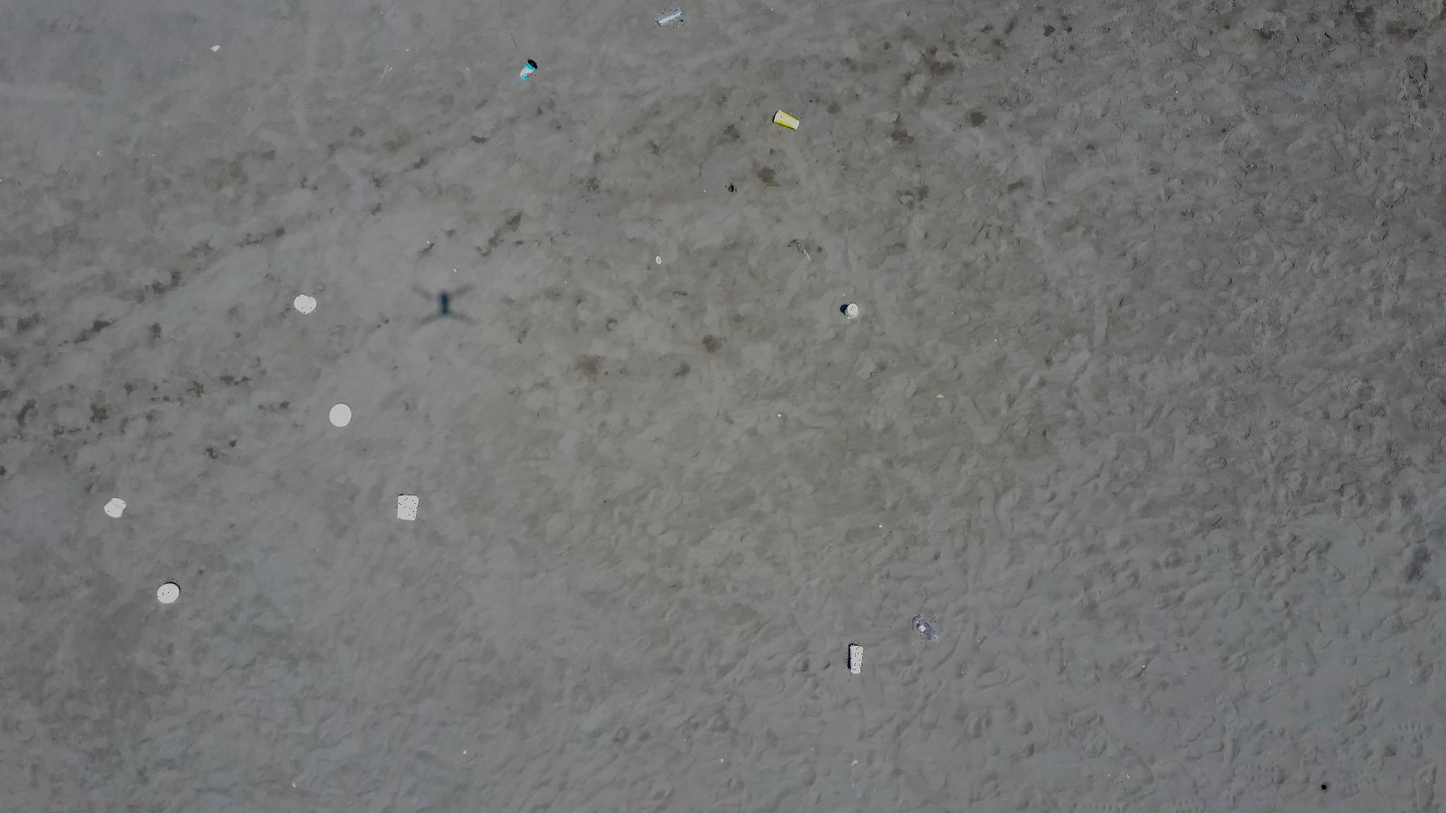Garbage: (913, 614, 938, 641), (397, 495, 418, 520), (788, 238, 811, 260), (655, 8, 683, 26), (329, 404, 351, 426), (772, 109, 797, 128), (157, 582, 179, 603), (293, 294, 316, 313), (847, 644, 861, 673), (104, 498, 125, 517), (520, 59, 536, 79), (839, 303, 859, 318), (211, 44, 220, 52), (655, 255, 662, 263)
